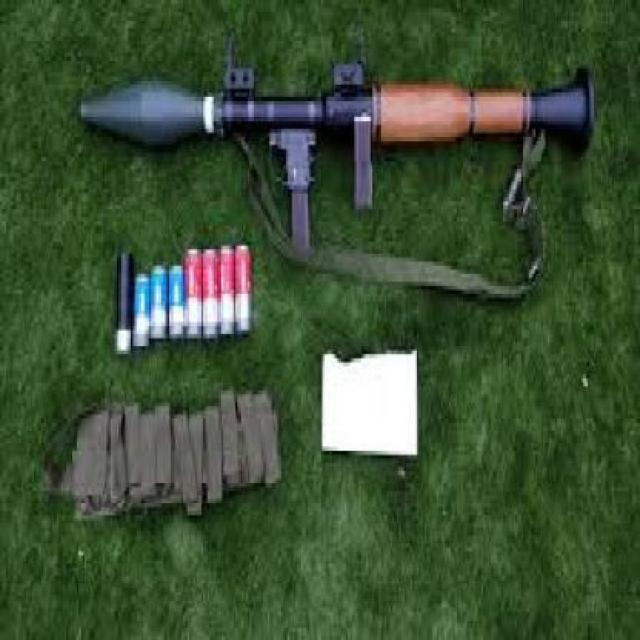weapon: (64, 33, 601, 270)
